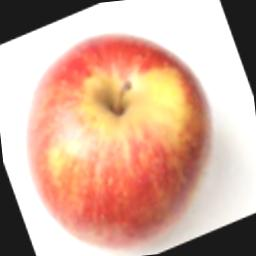Apple Ripe: (10, 0, 231, 256)
